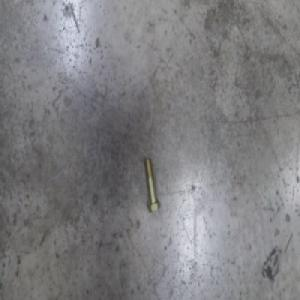Bolt: (144, 156, 161, 213)
